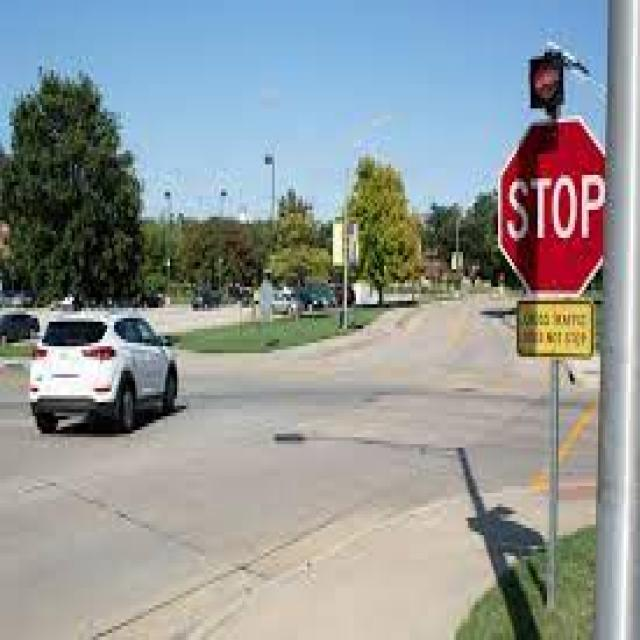stop-sign: (489, 117, 613, 299)
